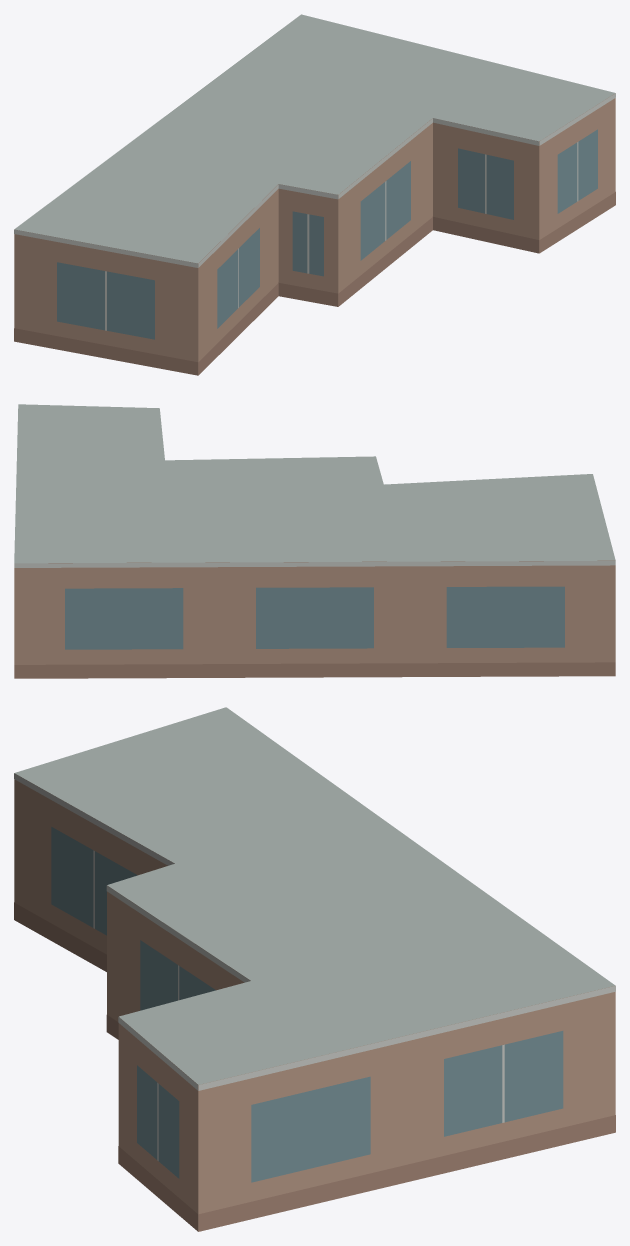
Rendered from survey-upis-32636999.glb.
3 views of the same model, one above another, from view 1: azimuth 30°, elevation 25°; view 2: azimuth 150°, elevation 25°; view 3: azimuth 270°, elevation 25° (orthographic). The views are drawn at different scales.
Visible parts, largest first — view 1: survey-upis-32636999.tmp; view 2: survey-upis-32636999.tmp; view 3: survey-upis-32636999.tmp.
Boxes of the visible parts, <box> form: survey-upis-32636999.tmp: <box>14,14,615,375</box>; survey-upis-32636999.tmp: <box>14,404,615,678</box>; survey-upis-32636999.tmp: <box>14,707,615,1231</box>.
Size of the model in its own units: 16.84 by 3.05 by 11.33.
